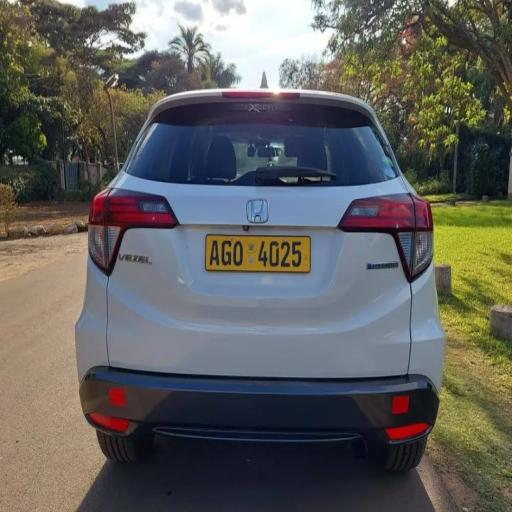number-plates: (207, 232, 311, 273)
